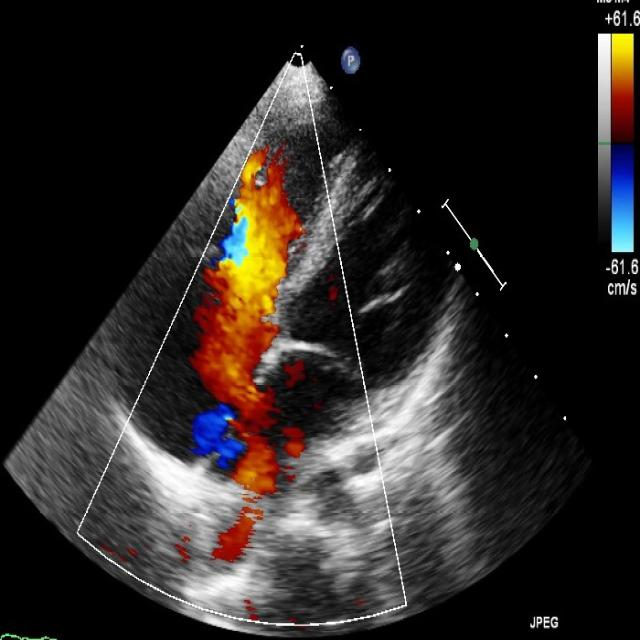ASDType2: (195, 310, 296, 500)
